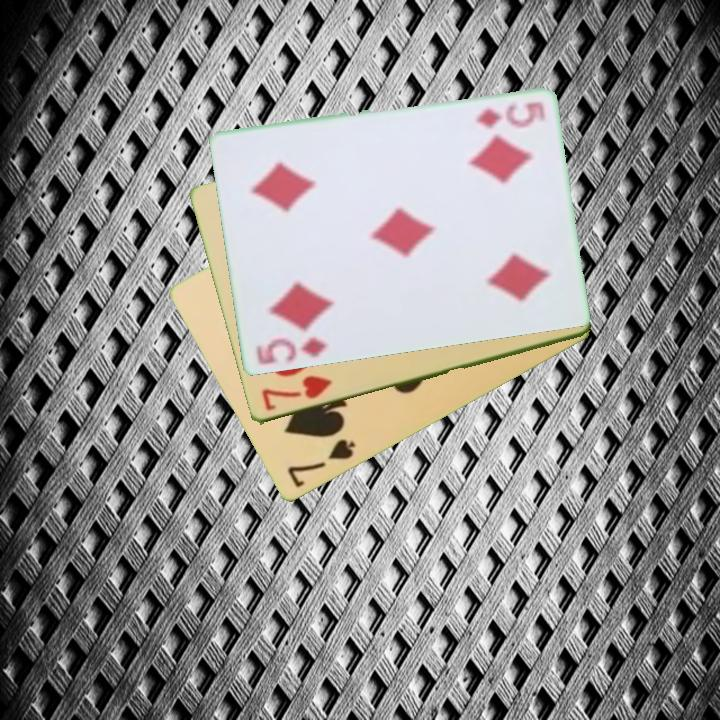5d: (252, 333, 329, 368), (472, 98, 548, 129)
7h: (258, 372, 334, 415)
7s: (283, 435, 359, 492)
